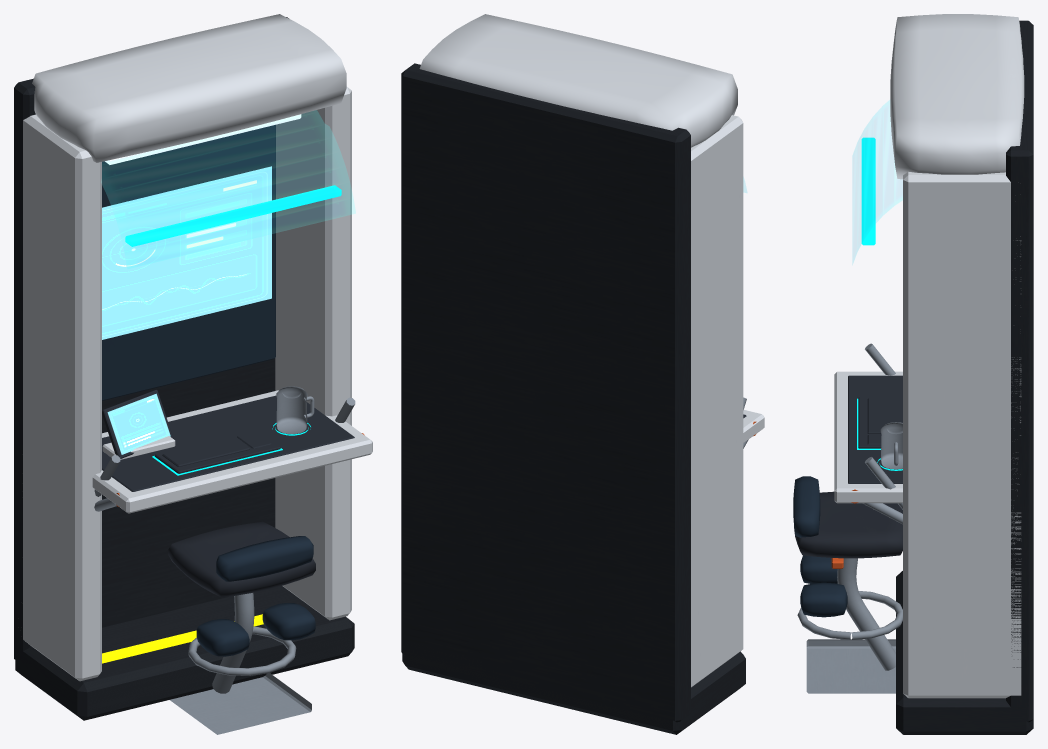
Rendered from walldesk_r1_03.glb.
3 renders of one model, left to right at view 1: azimuth 30°, elevation 25°; view 2: azimuth 150°, elevation 25°; view 3: azimuth 270°, elevation 25°, orthographic. The views are drawn at different scales.
Parts seen in each view (by area): view 1: WallDesk03_AerospaceWhiteCapsuleAndLeaf, WallDesk03_GunmetalRearFrame, WallDesk03_CurvedHoloPrivacyHood, WallDesk03_NavyKneeBolstersAndBackpad, WallDesk03_OLEDCommsTerminal, WallDesk03_CarbonSlateDeskSurface, WallDesk03_ScissorPantographStrutsAndStool, WallDesk03_CharcoalPerchSeat, WallDesk03_CyanCoasterAndHoodRim, WallDesk03_DockedDatapadOLED, WallDesk03_AmberFootlightLED, WallDesk03_TaskLightIceWhite; view 2: WallDesk03_GunmetalRearFrame, WallDesk03_AerospaceWhiteCapsuleAndLeaf; view 3: WallDesk03_AerospaceWhiteCapsuleAndLeaf, WallDesk03_GunmetalRearFrame, WallDesk03_ScissorPantographStrutsAndStool, WallDesk03_CharcoalPerchSeat, WallDesk03_CarbonSlateDeskSurface, WallDesk03_CurvedHoloPrivacyHood, WallDesk03_NavyKneeBolstersAndBackpad, WallDesk03_CyanCoasterAndHoodRim.
Part boxes in pixels (box(x1,y1,x2,y2)): WallDesk03_AerospaceWhiteCapsuleAndLeaf: box(23, 14, 372, 681); WallDesk03_GunmetalRearFrame: box(14, 17, 354, 720); WallDesk03_CurvedHoloPrivacyHood: box(101, 110, 355, 268); WallDesk03_NavyKneeBolstersAndBackpad: box(102, 124, 315, 656); WallDesk03_OLEDCommsTerminal: box(102, 166, 271, 339); WallDesk03_CarbonSlateDeskSurface: box(102, 390, 354, 491); WallDesk03_ScissorPantographStrutsAndStool: box(94, 386, 355, 734); WallDesk03_CharcoalPerchSeat: box(168, 521, 315, 597); WallDesk03_CyanCoasterAndHoodRim: box(125, 185, 341, 475); WallDesk03_DockedDatapadOLED: box(107, 393, 170, 454); WallDesk03_AmberFootlightLED: box(102, 614, 263, 663); WallDesk03_TaskLightIceWhite: box(105, 114, 301, 164); WallDesk03_GunmetalRearFrame: box(401, 63, 745, 734); WallDesk03_AerospaceWhiteCapsuleAndLeaf: box(419, 14, 764, 687); WallDesk03_AerospaceWhiteCapsuleAndLeaf: box(834, 14, 1024, 698); WallDesk03_GunmetalRearFrame: box(896, 20, 1033, 734); WallDesk03_ScissorPantographStrutsAndStool: box(797, 343, 902, 693); WallDesk03_CharcoalPerchSeat: box(794, 491, 902, 558); WallDesk03_CarbonSlateDeskSurface: box(848, 375, 902, 483); WallDesk03_CurvedHoloPrivacyHood: box(853, 100, 902, 261); WallDesk03_NavyKneeBolstersAndBackpad: box(793, 476, 847, 617); WallDesk03_CyanCoasterAndHoodRim: box(857, 137, 902, 470).
Size of the model in its own units: 0.92 by 1.92 by 0.699.
Materials: 13 (13 with a texture image).
